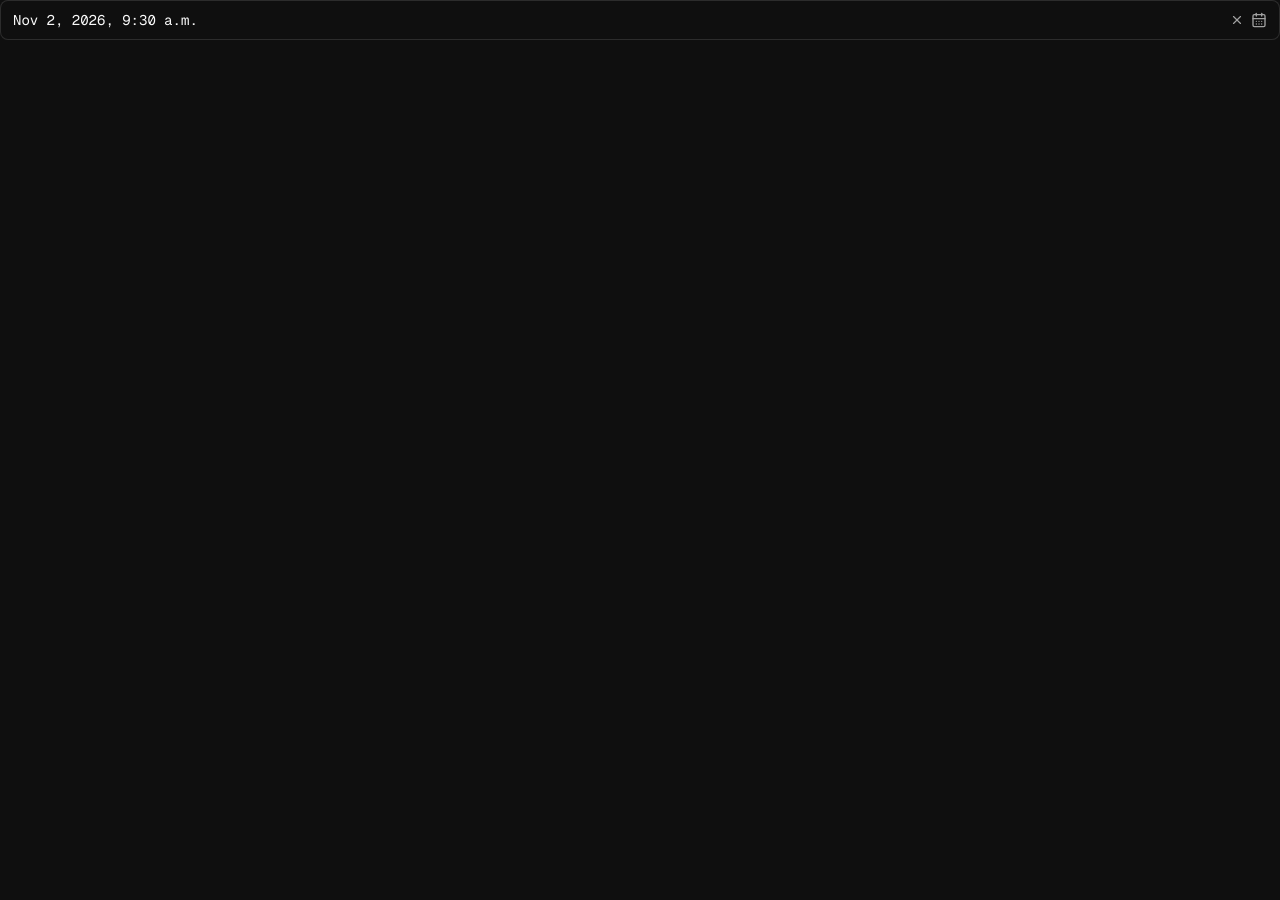
DateField popup › keeps the time on day click and offers Now (datetime-local)
Click the button "Nov 2, 2026, 9:30 a.m.".
click(105, 20)  # box x1=13 y1=10 x2=1223 y2=30
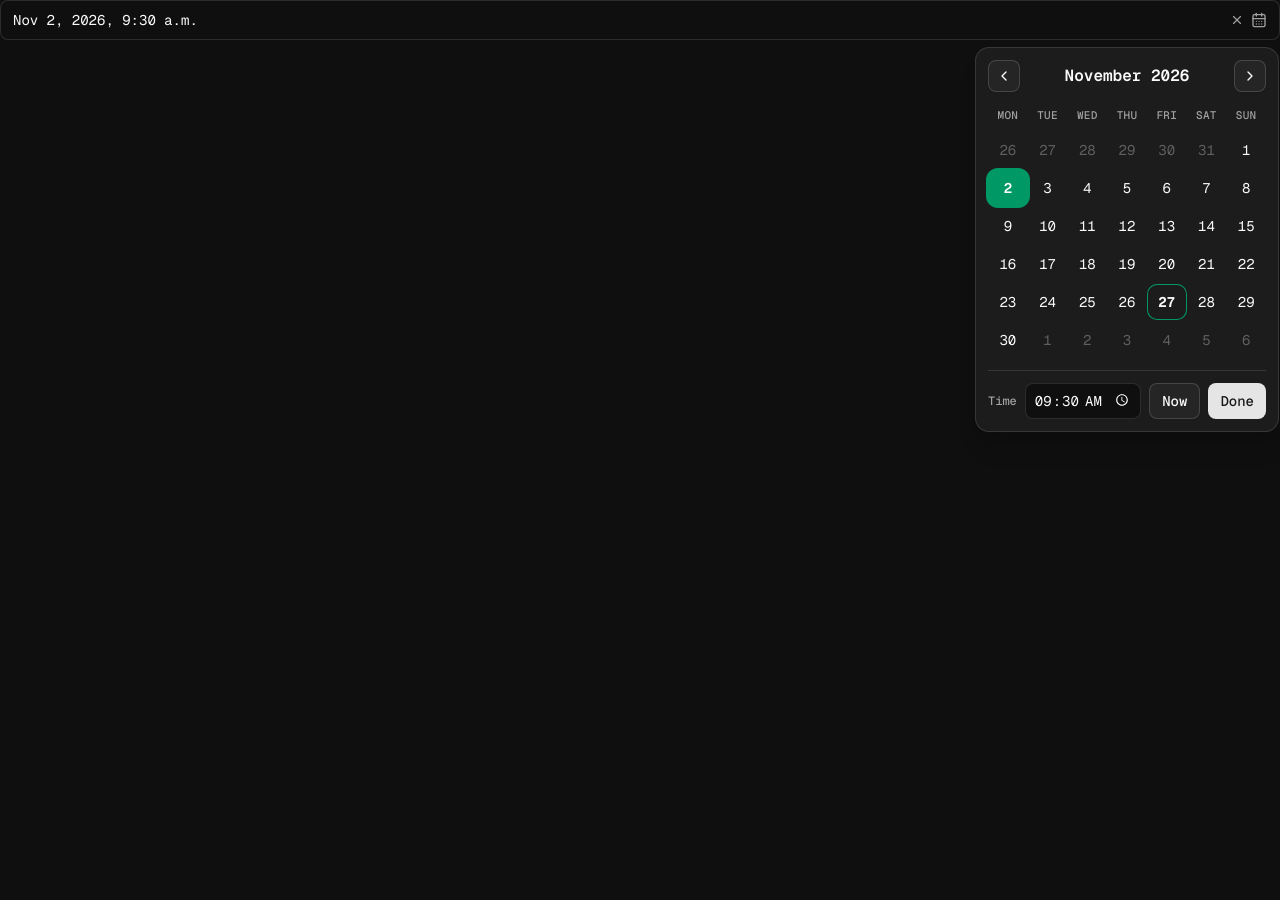
Now the time field labelled "Time" is shown, box x1=1025 y1=383 x2=1141 y2=419
Click the button named "Sunday, November 15, 2026".
click(1246, 226)  # box x1=1226 y1=208 x2=1266 y2=244
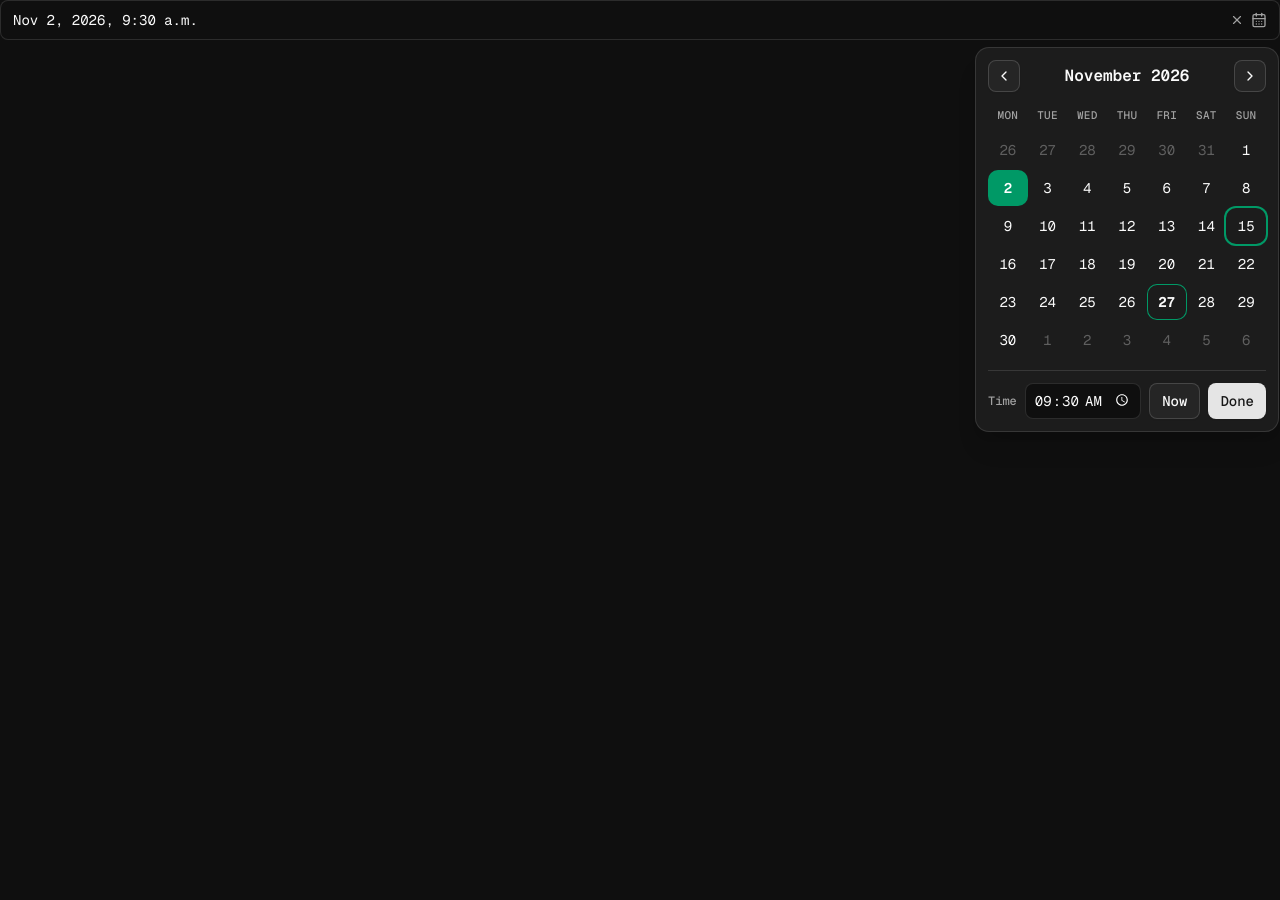
Now the text "November 2026" is shown, box x1=1065 y1=64 x2=1189 y2=88
Click the button "Now".
click(1175, 401)  # box x1=1149 y1=383 x2=1200 y2=419
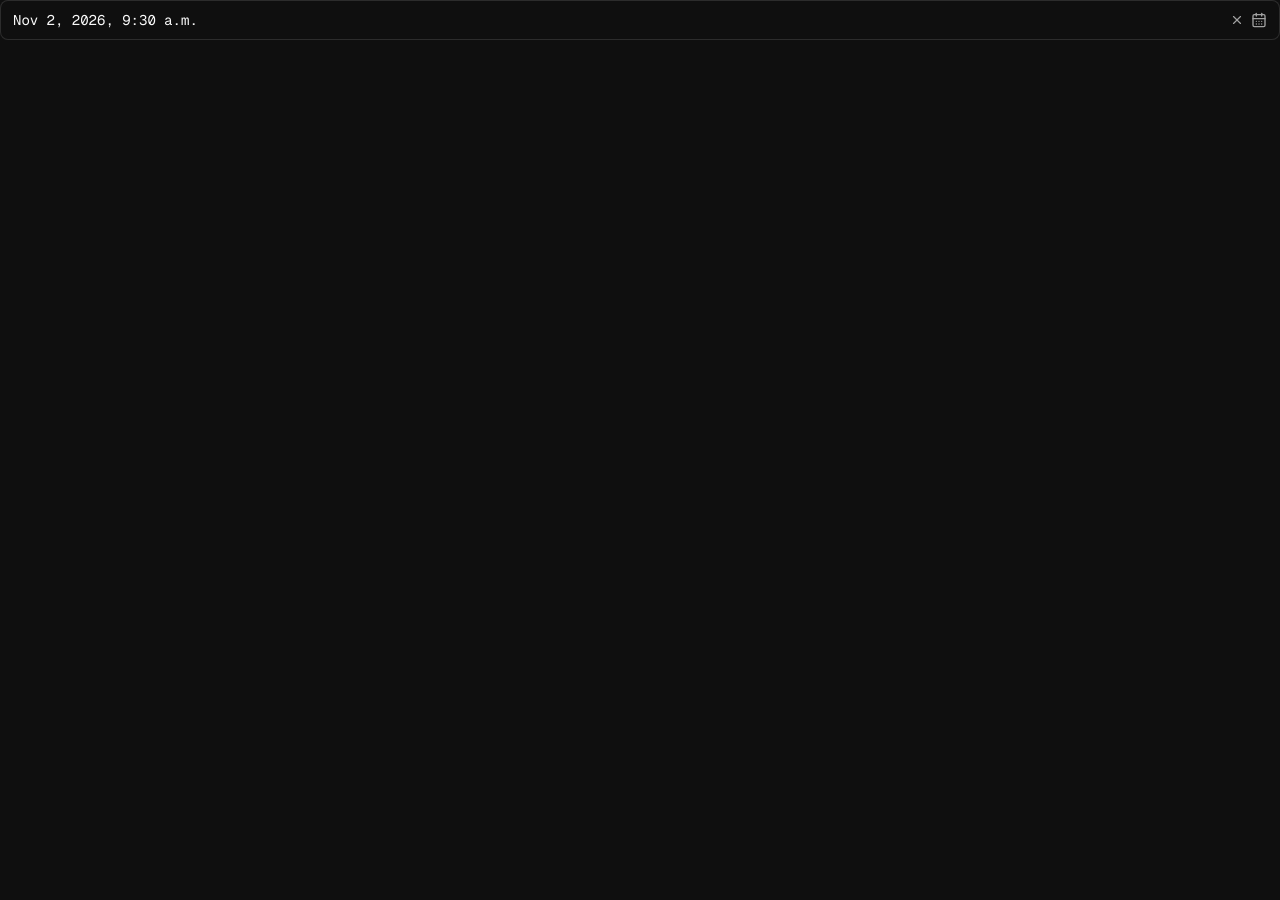
Now the text "November 2026" is gone
